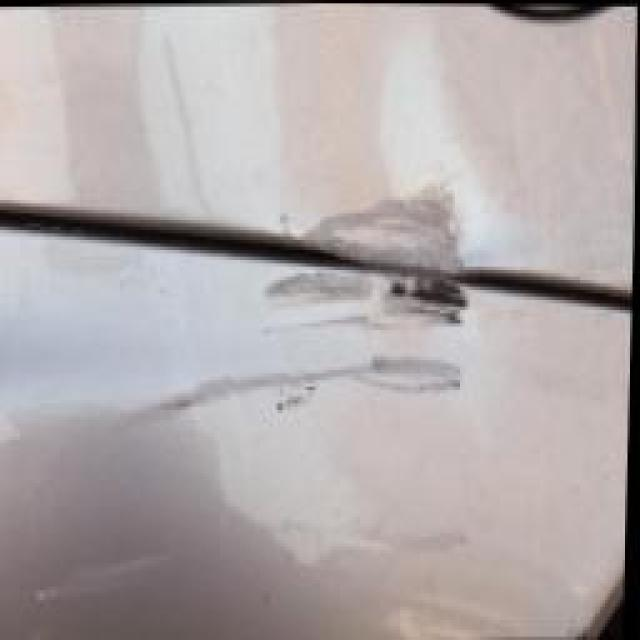Bumper: (0, 107, 638, 640)
